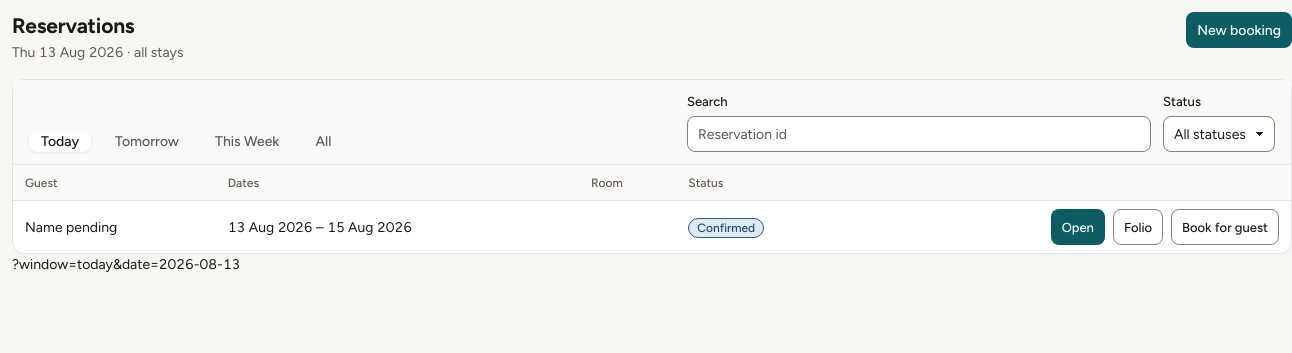
ReservationsDirectoryScreen › active status filter and folio row link; empty and fail-closed copy
This screenshot has width=1292, height=353.
Expected: the link "Folio" is shown, x1=1113 y1=210 x2=1163 y2=246
Step 1. Select "Active" in the dropdown with test id "directory-status" → (1219, 134), box x1=1163 y1=116 x2=1275 y2=152
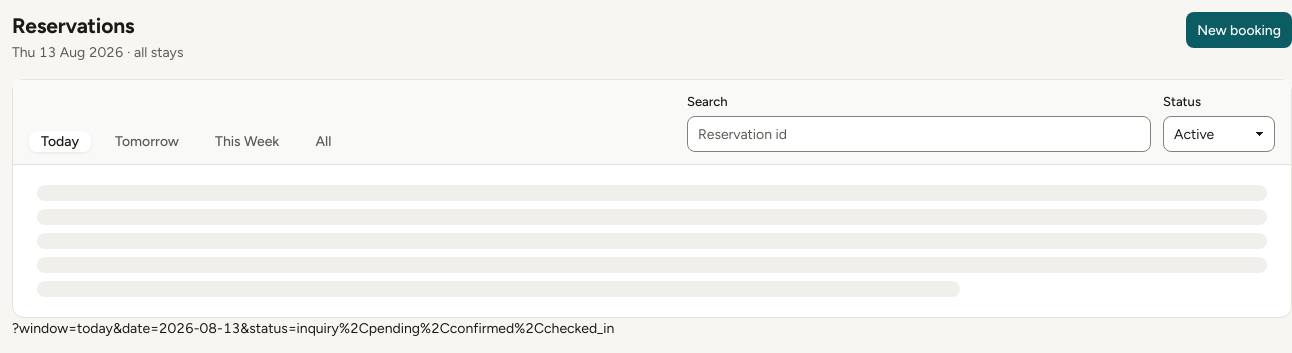
Step 2. Click the link "Today" → (60, 142), box x1=29 y1=132 x2=91 y2=152
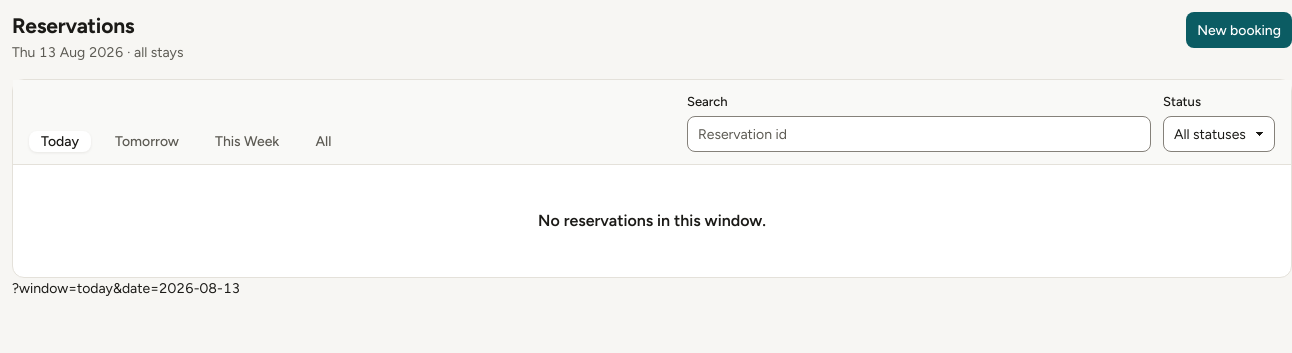
Result: the text "No reservations in this window." is shown at x1=538 y1=210 x2=766 y2=234
Step 3. Click the link "Tomorrow" → (147, 142), box x1=115 y1=134 x2=179 y2=150
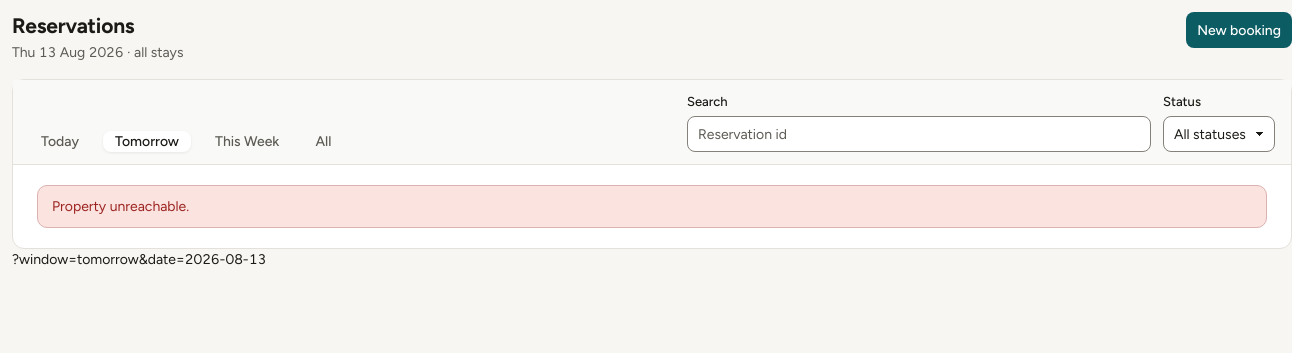
Expected: the heading "Reservations" is shown, x1=12 y1=12 x2=134 y2=40
Result: the message reads "Property unreachable." at x1=52 y1=198 x2=189 y2=216
